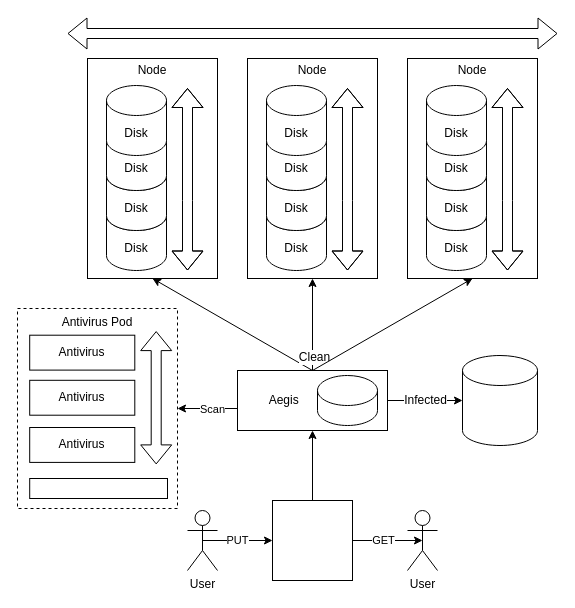
Some shapes in this 575 by 608 pixel diagram are drawn without their labels. Here are the shapes that lost their labels. From the top down, the centre of each, then its label:
the point at 347,400: cache
the point at 500,400: Quarantine
the point at 98,488: Load Balancer
the point at 312,540: MinIO Client
